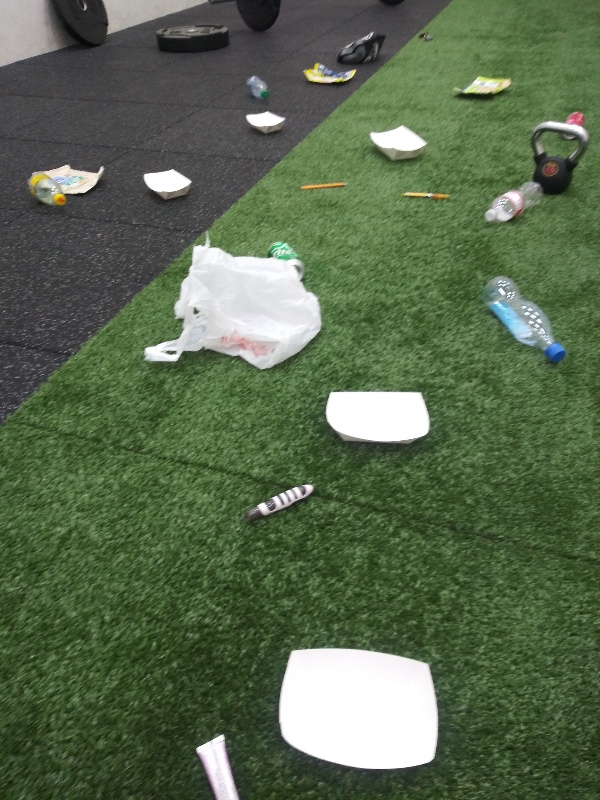bag: (39, 159, 107, 195), (450, 72, 515, 103), (299, 61, 358, 86)
bottle: (473, 273, 567, 369), (481, 178, 545, 225), (25, 171, 70, 213), (239, 70, 272, 103)
can: (266, 237, 304, 282), (561, 109, 586, 144)
plate: (273, 643, 443, 773), (323, 386, 437, 448), (363, 123, 430, 163), (138, 165, 195, 203), (240, 109, 289, 136)
